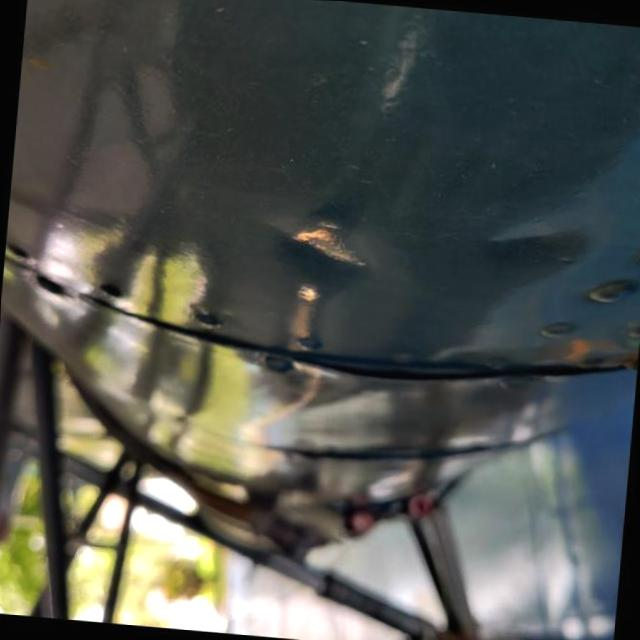dent: (294, 342, 480, 390), (484, 226, 590, 290), (291, 201, 369, 266)
